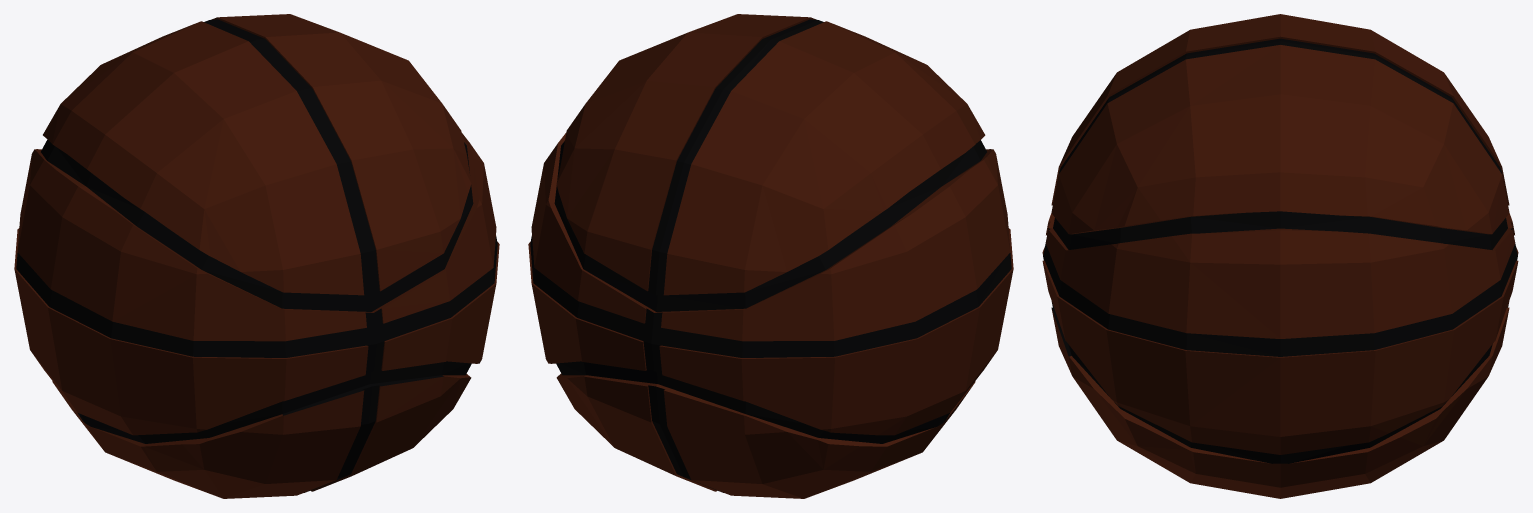
File: BasketBall1.obj
3 views of the same model, side by side, from view 1: azimuth 30°, elevation 25°; view 2: azimuth 150°, elevation 25°; view 3: azimuth 270°, elevation 25° (orthographic).
Visible parts, largest first — view 1: BasketBall1_Cube.007; view 2: BasketBall1_Cube.007; view 3: BasketBall1_Cube.007.
Part boxes in pixels (x1,y1,x2,y2): BasketBall1_Cube.007: [14, 14, 499, 498]; BasketBall1_Cube.007: [528, 14, 1013, 498]; BasketBall1_Cube.007: [1042, 14, 1518, 498].
Size of the model in its own units: 0.4181 by 0.4152 by 0.4152.
